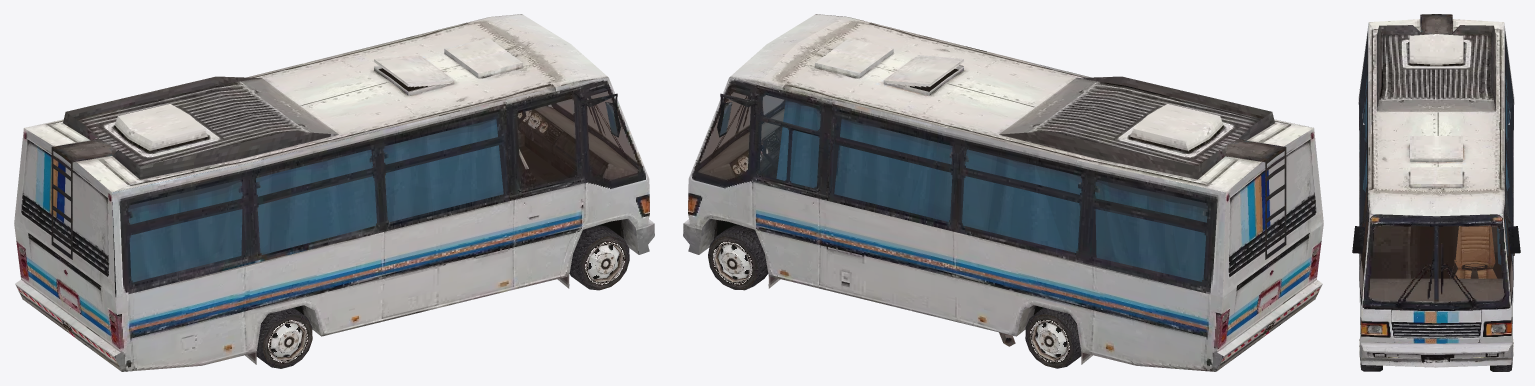
File: bus.glb
3 views of the same model, side by side, from view 1: azimuth 30°, elevation 25°; view 2: azimuth 150°, elevation 25°; view 3: azimuth 270°, elevation 25° (orthographic). The views are drawn at different scales.
Visible parts, largest first — view 1: body, wheel_front, wheel_rear; view 2: body, wheel_front, wheel_rear; view 3: body, wheel_front.
Part boxes in pixels (x1,y1,x2,y2): body: (14, 14, 654, 371); wheel_front: (569, 225, 629, 290); wheel_rear: (256, 307, 312, 368); body: (683, 14, 1323, 371); wheel_front: (708, 225, 768, 290); wheel_rear: (1025, 307, 1081, 368); body: (1352, 14, 1520, 367); wheel_front: (1359, 339, 1513, 371).
Bounding box in the file's own units: 23.45 × 9.4 × 8.13.
Materials: 2 (2 with a texture image).
